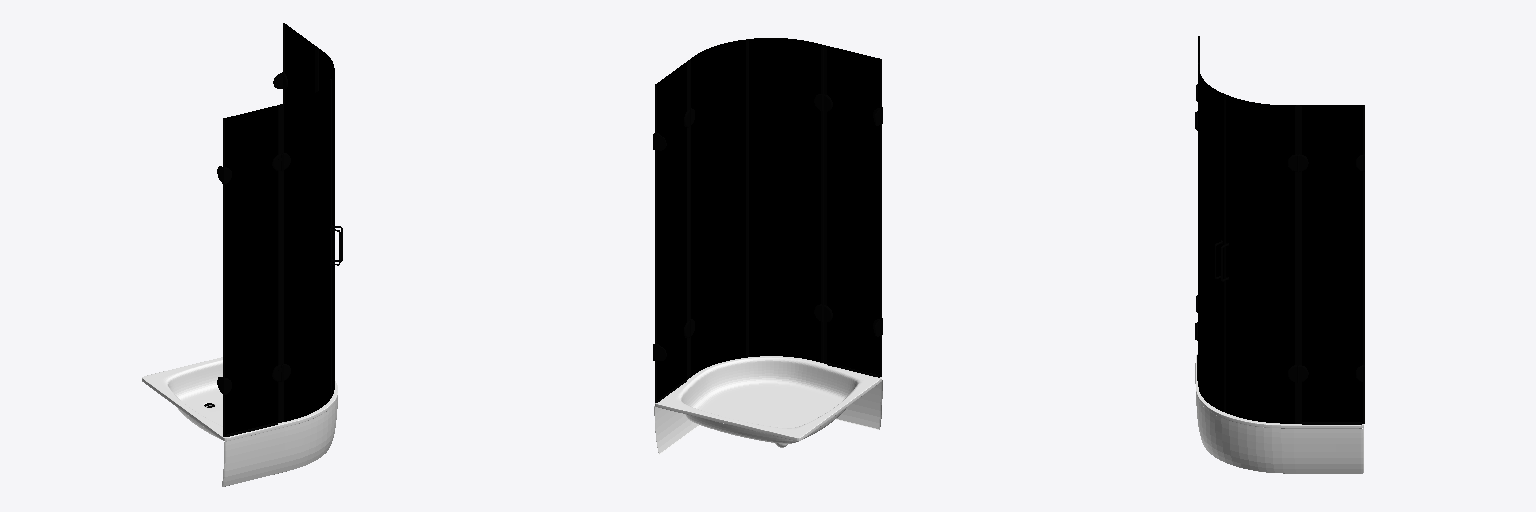
3 views of the same model, side by side, from view 1: azimuth 30°, elevation 25°; view 2: azimuth 150°, elevation 25°; view 3: azimuth 270°, elevation 25° (orthographic).
Visible parts, largest first — view 1: cgaxis_free_02_03, cgaxis_free_02_02, cgaxis_free_02_01; view 2: cgaxis_free_02_03, cgaxis_free_02_02, cgaxis_free_02_01; view 3: cgaxis_free_02_03, cgaxis_free_02_02, cgaxis_free_02_01.
Boxes of the visible parts, x1,y1,x2,y2 form: cgaxis_free_02_03: [224, 23, 334, 435]; cgaxis_free_02_02: [142, 357, 337, 486]; cgaxis_free_02_01: [204, 23, 342, 436]; cgaxis_free_02_03: [655, 38, 879, 399]; cgaxis_free_02_02: [654, 356, 882, 454]; cgaxis_free_02_01: [653, 39, 882, 402]; cgaxis_free_02_03: [1198, 36, 1363, 423]; cgaxis_free_02_02: [1195, 354, 1363, 473]; cgaxis_free_02_01: [1195, 36, 1364, 424].
Bounding box in the file's own units: 35.65 × 85.6 × 35.64.